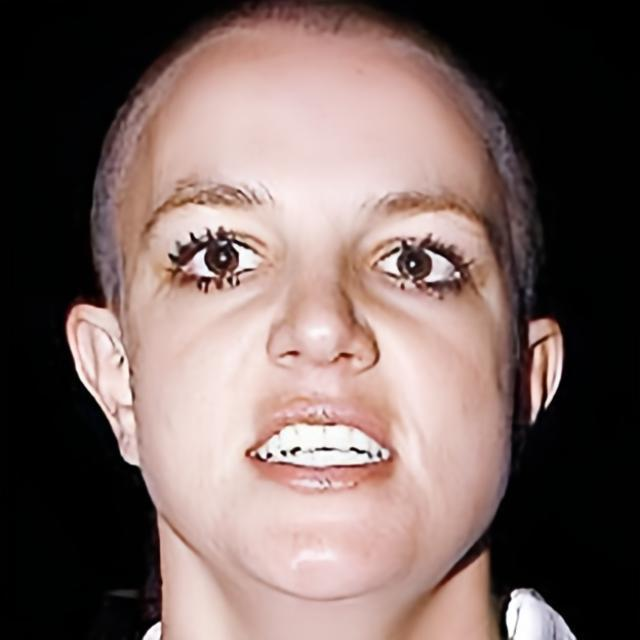disgust: (121, 39, 517, 602)
